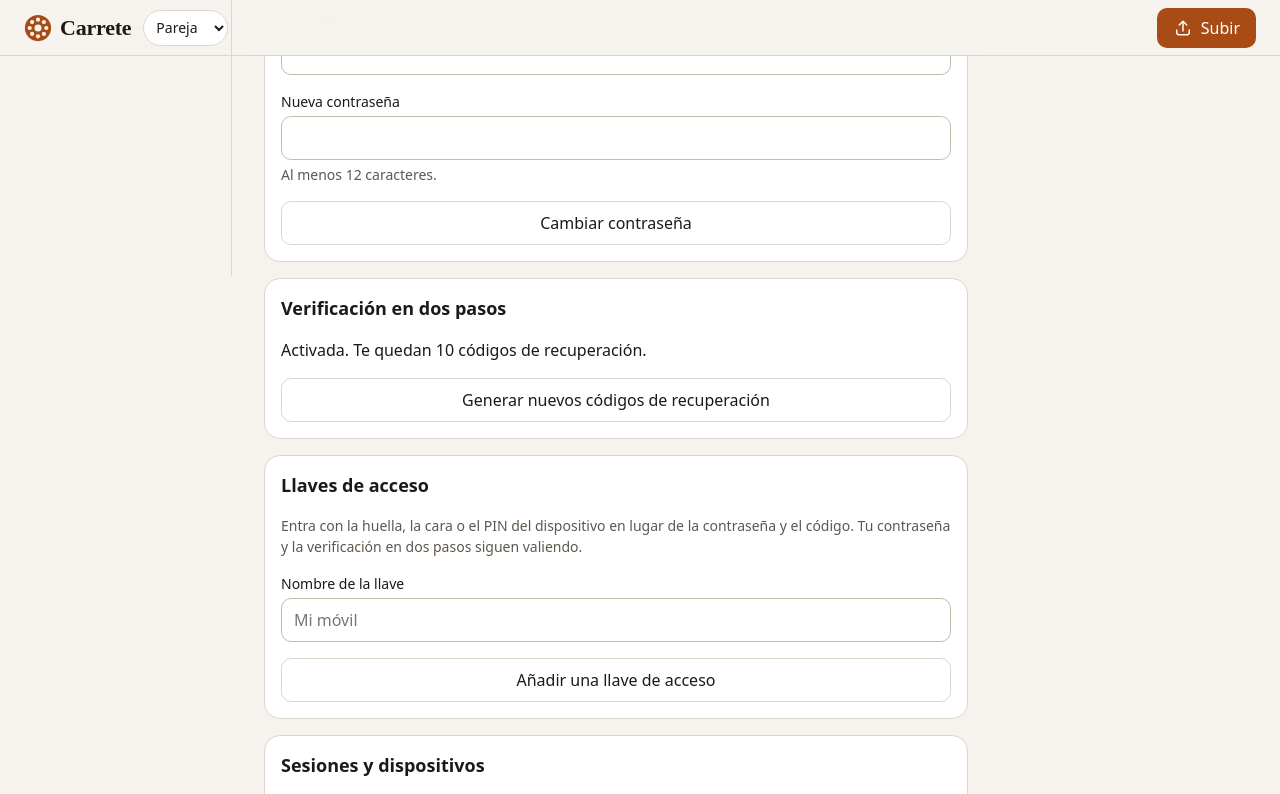
it: acceso › pide reautenticación para acciones sensibles y reintenta
The width and height of the screenshot is (1280, 794).
(page scrolled)
Click the button "Generar nuevos códigos de recuperación" at (616, 400), box [281, 378, 951, 422]
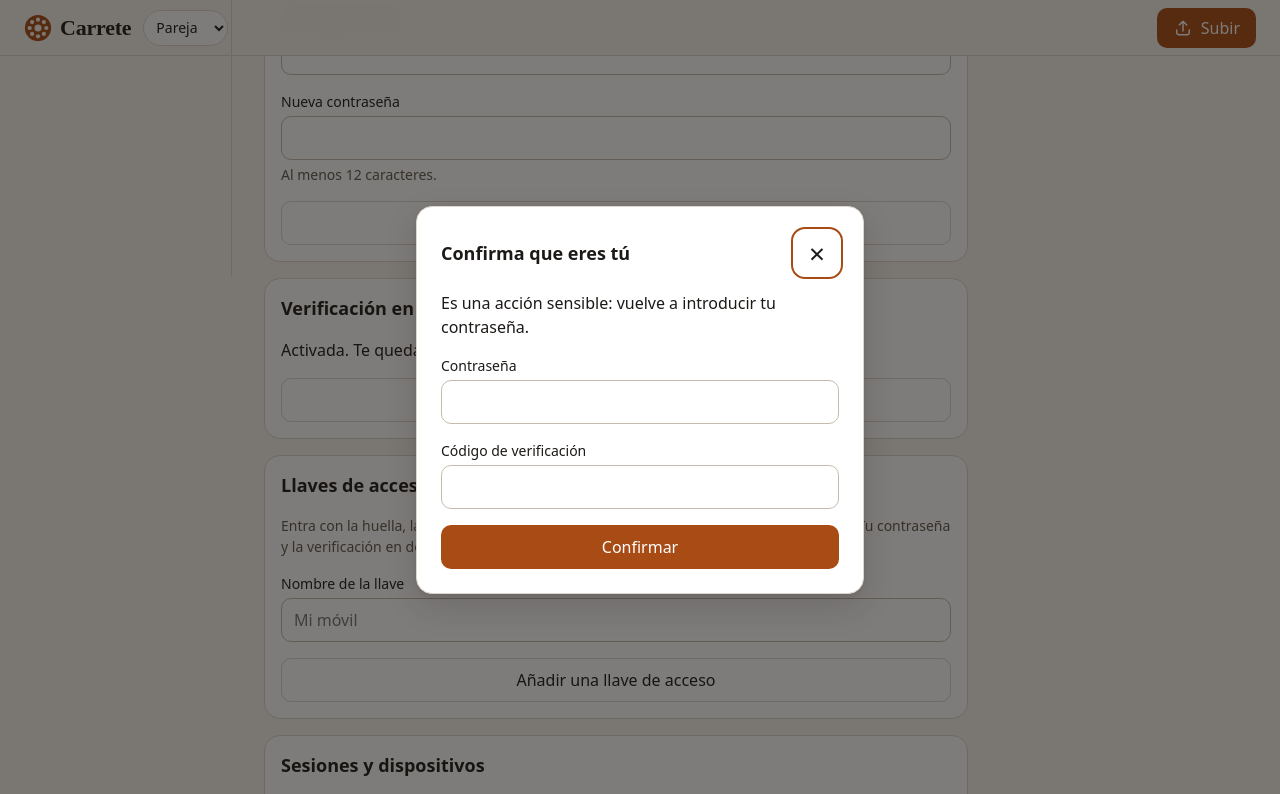
Check: the dialog "Confirma que eres tú" is shown, box [416, 206, 864, 594]
Type "mi contraseña" into the password field labelled "Contraseña" at (640, 402), box [441, 380, 839, 424]
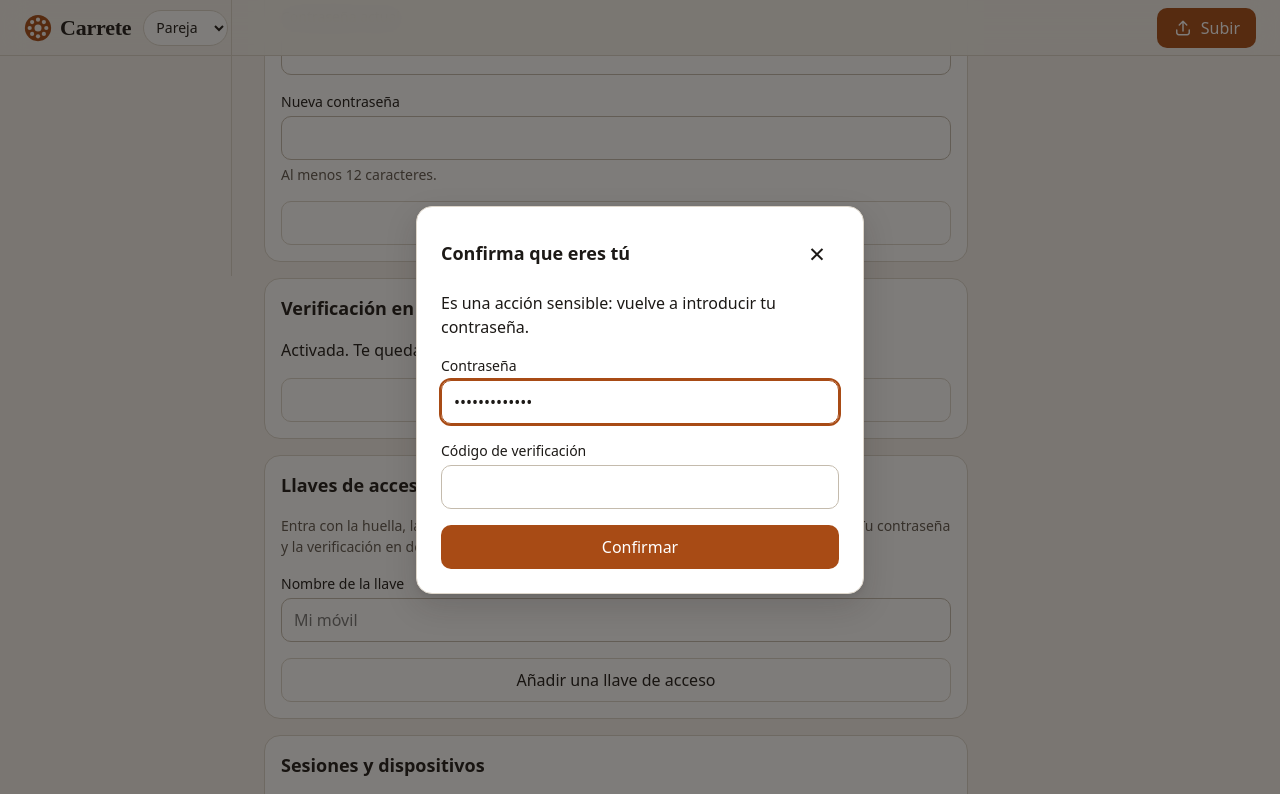
Type "123456" into the field labelled "Código de verificación" at (640, 487), box [441, 465, 839, 509]
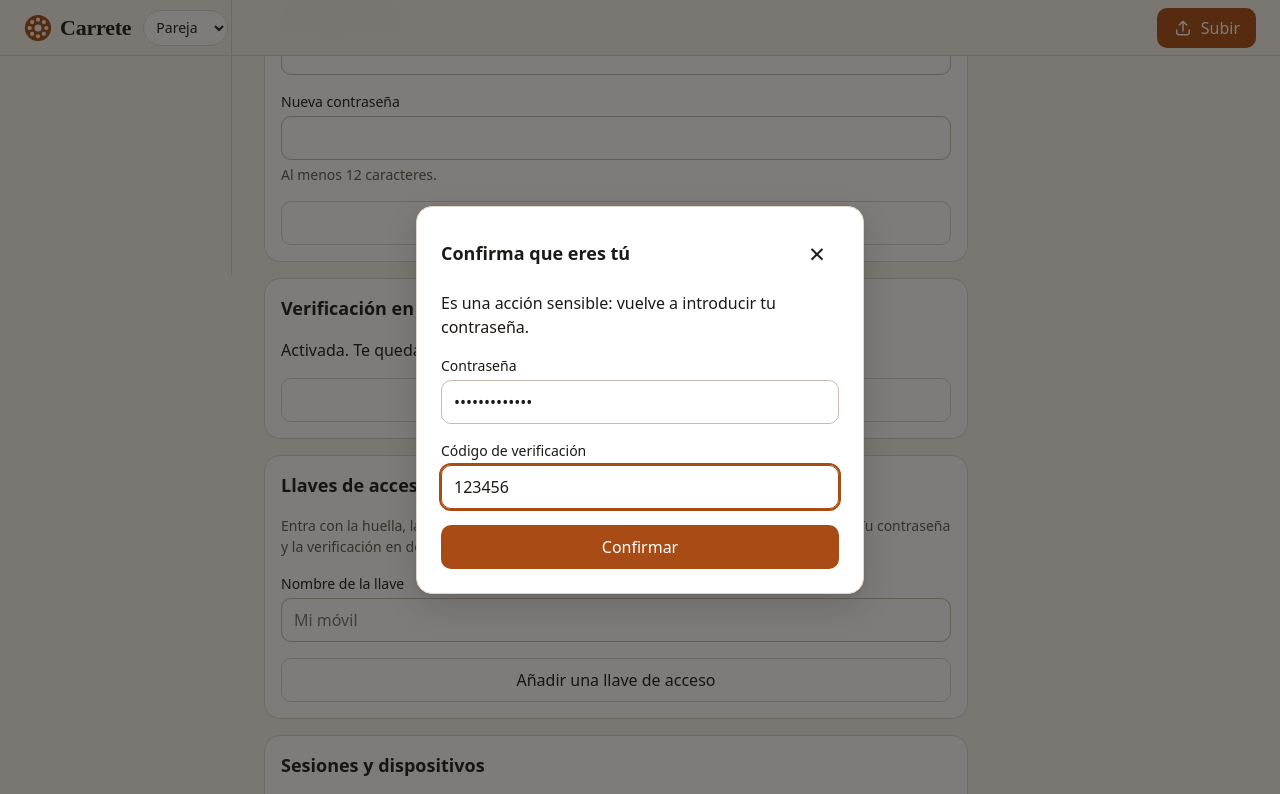
Click the button "Confirmar" at (640, 547), box [441, 525, 839, 569]
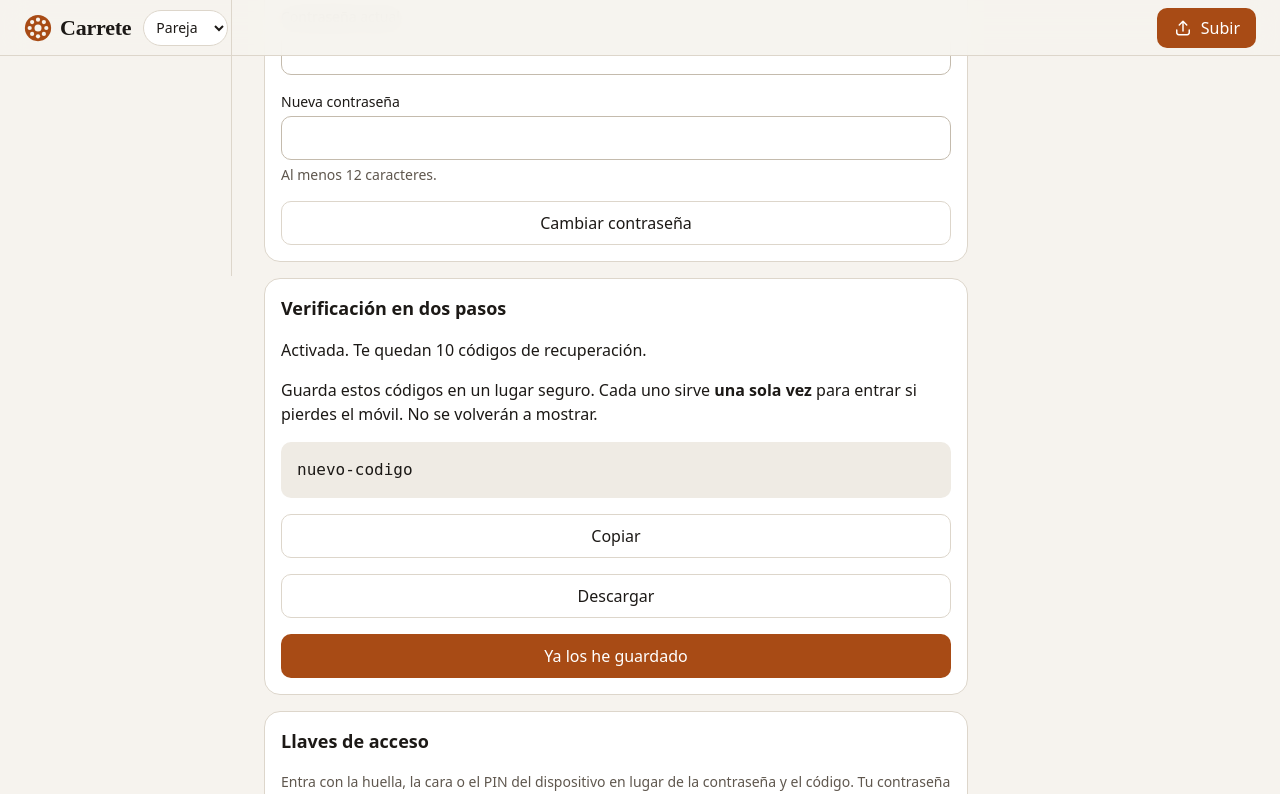
Check: the list item "nuevo-codigo" is shown, box [297, 460, 413, 479]
